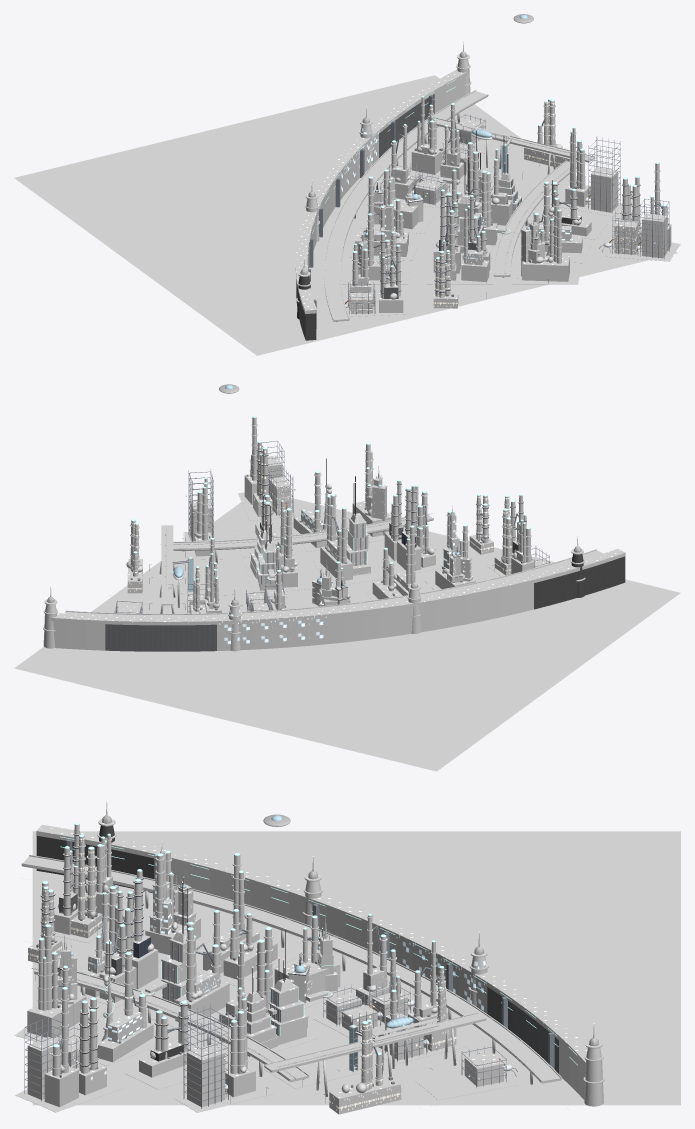
Rendered from Viertel_L3.fbx.
3 views of the same model, one above another, from view 1: azimuth 30°, elevation 25°; view 2: azimuth 150°, elevation 25°; view 3: azimuth 270°, elevation 25° (orthographic). The views are drawn at different scales.
Parts seen in each view (by area): view 1: Viertel_L3_Strasse, Viertel_L3_Fassaden, Viertel_L3_Details; view 2: Viertel_L3_Strasse, Viertel_L3_Fassaden, Viertel_L3_Details; view 3: Viertel_L3_Strasse, Viertel_L3_Fassaden, Viertel_L3_Details.
Boxes of the visible parts, x1,y1,x2,y2 form: Viertel_L3_Strasse: (14, 75, 680, 355); Viertel_L3_Fassaden: (295, 59, 671, 340); Viertel_L3_Details: (296, 14, 669, 328); Viertel_L3_Strasse: (14, 492, 680, 771); Viertel_L3_Fassaden: (43, 416, 625, 651); Viertel_L3_Details: (43, 384, 585, 634); Viertel_L3_Strasse: (14, 831, 680, 1112); Viertel_L3_Fassaden: (27, 824, 603, 1114); Viertel_L3_Details: (24, 800, 604, 1108).
Bounding box in the file's own units: 65168 × 26621 × 64823.
